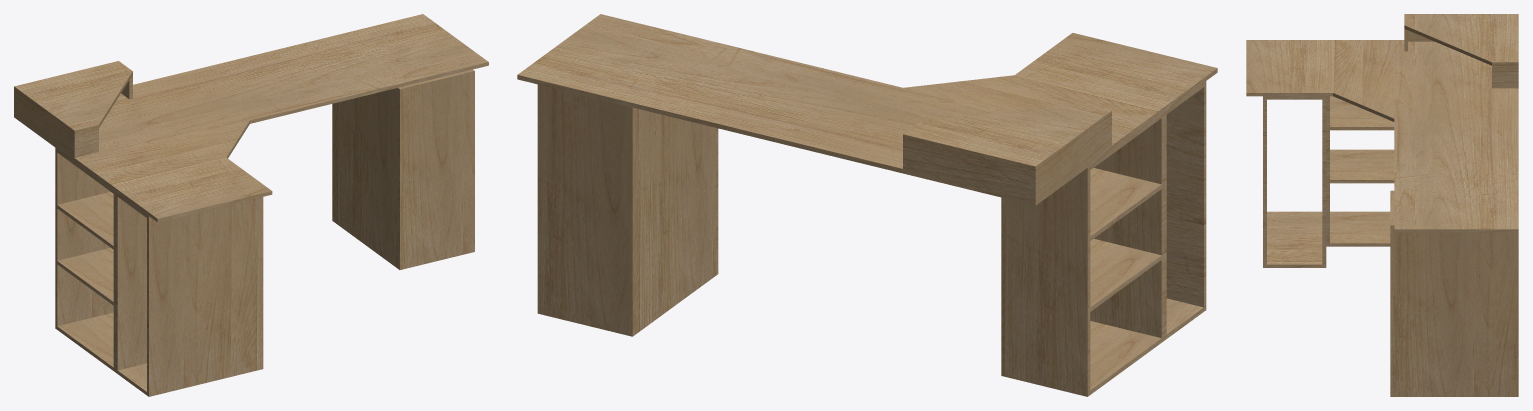
File: DESK2.fbx
The picture shows the model from 3 angles, left to right: view 1: azimuth 30°, elevation 25°; view 2: azimuth 150°, elevation 25°; view 3: azimuth 270°, elevation 25°; orthographic projection. The views are drawn at different scales.
Visible parts, largest first — view 1: Model; view 2: Model; view 3: Model.
Part boxes in pixels (x1,y1,x2,y2): Model: [14, 14, 488, 396]; Model: [517, 14, 1217, 396]; Model: [1246, 14, 1518, 396].
Size of the model in its own units: 1798 by 890 by 1094.
